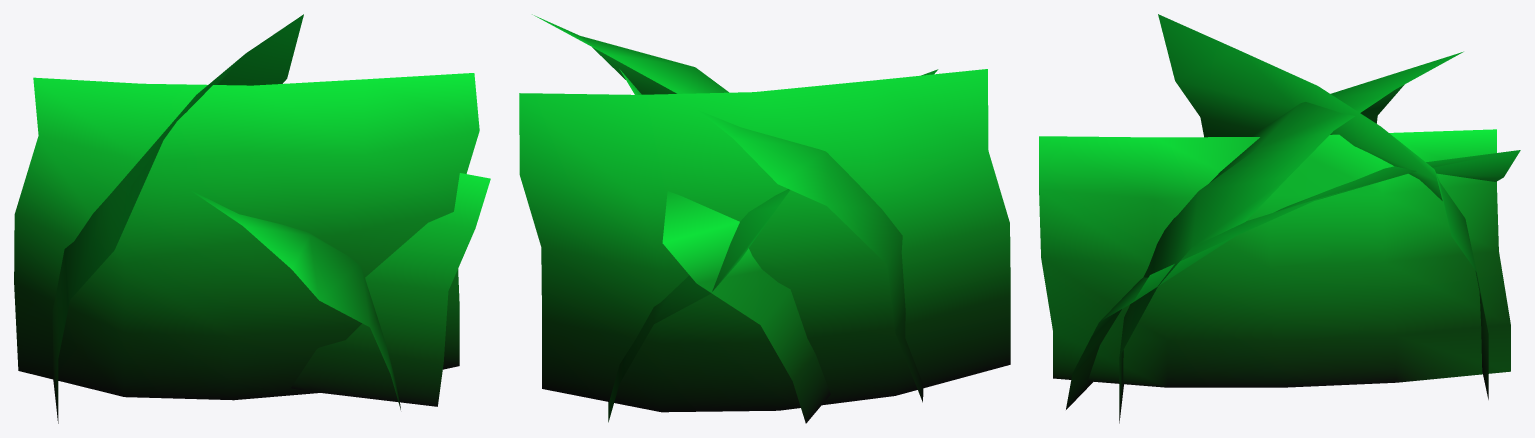
File: SM_GrassLODS.fbx
3 views of the same model, side by side, from view 1: azimuth 30°, elevation 25°; view 2: azimuth 150°, elevation 25°; view 3: azimuth 270°, elevation 25° (orthographic). The views are drawn at different scales.
Visible parts, largest first — view 1: Grass_LOD0; view 2: Grass_LOD0; view 3: Grass_LOD0.
Part boxes in pixels (x1=…): Grass_LOD0: x1=14, y1=14, x2=490, y2=423; Grass_LOD0: x1=519, y1=14, x2=1010, y2=423; Grass_LOD0: x1=1039, y1=14, x2=1520, y2=423.
Size of what is drawn, in the model's own units: 114 by 63.48 by 105.
